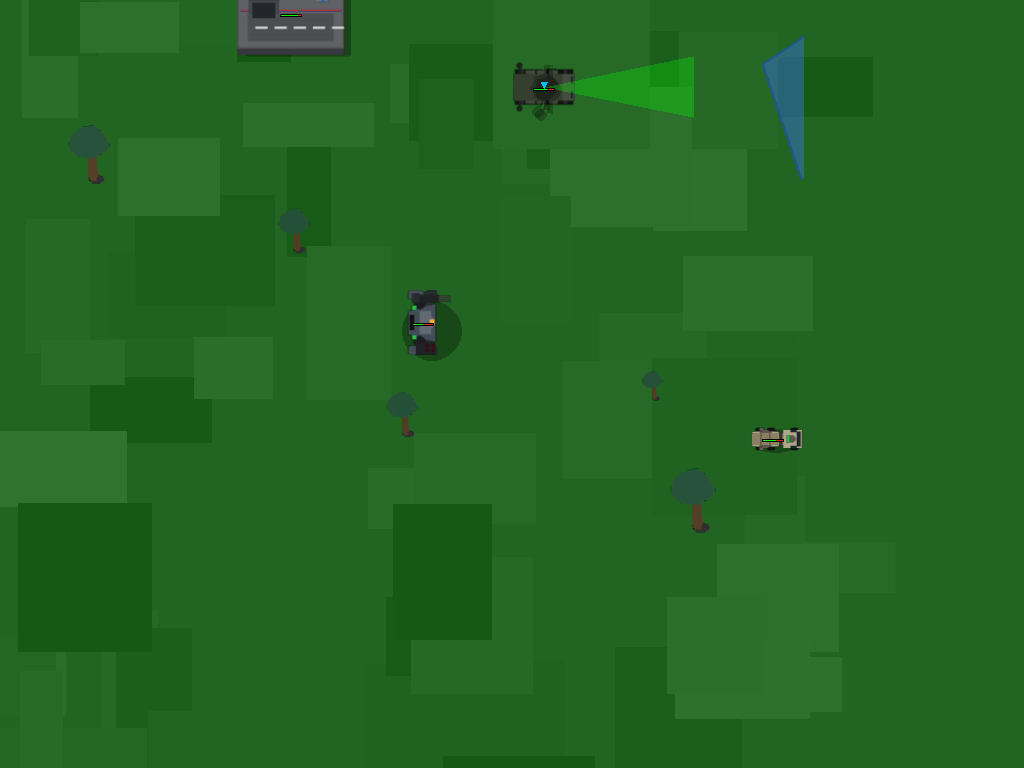Airfield: (239, 0, 342, 103)
HIMARS: (748, 413, 798, 463)
HeavyMech: (398, 297, 446, 345)
Lake: (762, 0, 804, 274)
RadarBuilding: (507, 50, 580, 123)
